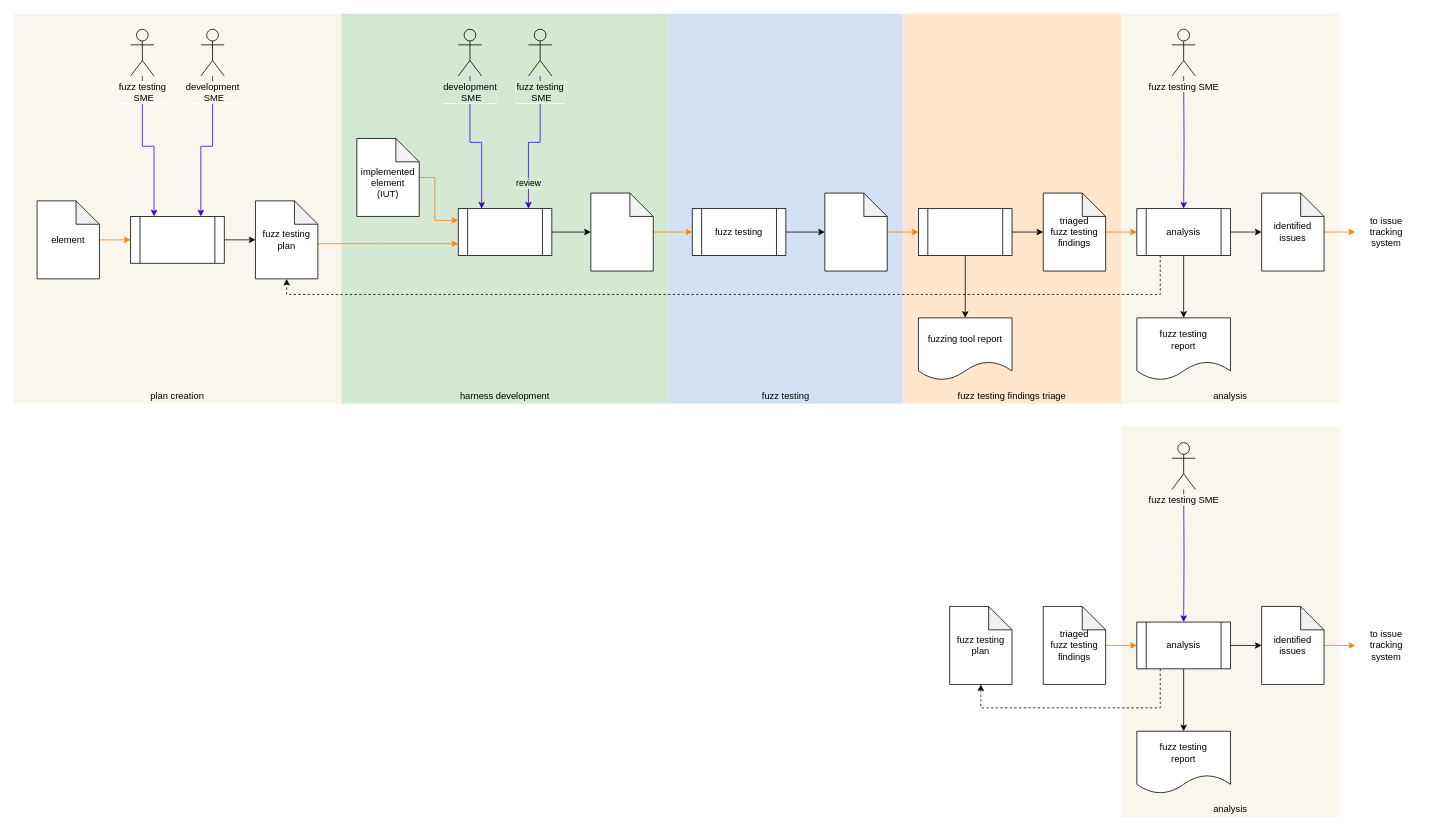
The diagram is 1431 pixels wide and 830 high, and some of its shapes have lost their labels. The shapes that lost their labels are listed below. From the top down, each one's centre as x and y in pixels, then its label:
At (177,239): "create plan".
At (504,231): "fuzzing harness development".
At (621,231): "fuzzing harness".
At (855,231): "fuzz testing findings".
At (965,231): "automated fuzz testing findings triage".
